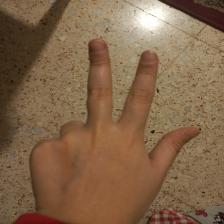three: (35, 35, 204, 207)
